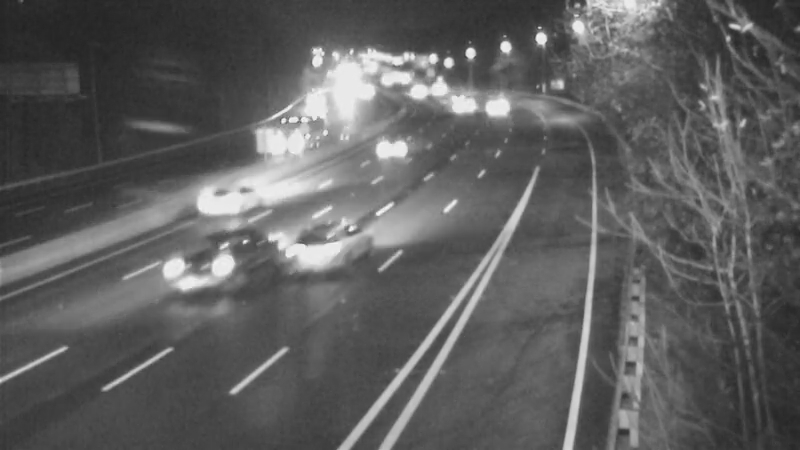vehicle: (180, 166, 260, 246), (272, 210, 352, 290), (156, 230, 236, 310), (418, 63, 468, 113), (390, 63, 440, 113), (426, 74, 476, 124), (466, 86, 516, 136), (439, 83, 489, 133), (371, 122, 421, 172), (255, 118, 305, 168), (287, 74, 337, 124)
